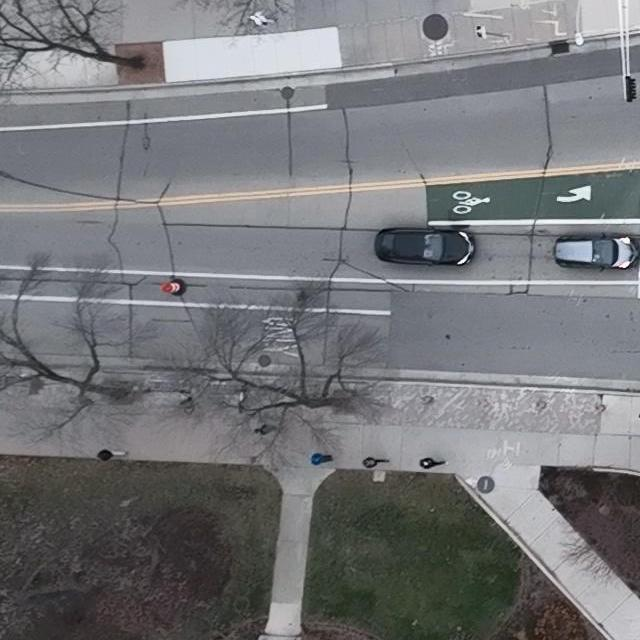car: (374, 226, 476, 267), (553, 232, 640, 272)
